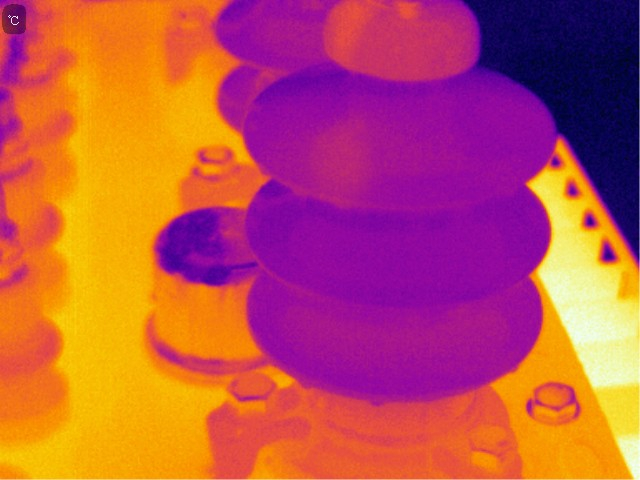Oil: (319, 1, 448, 73), (311, 121, 377, 196), (293, 183, 355, 211), (365, 392, 388, 408), (299, 373, 316, 392), (257, 164, 277, 177)
